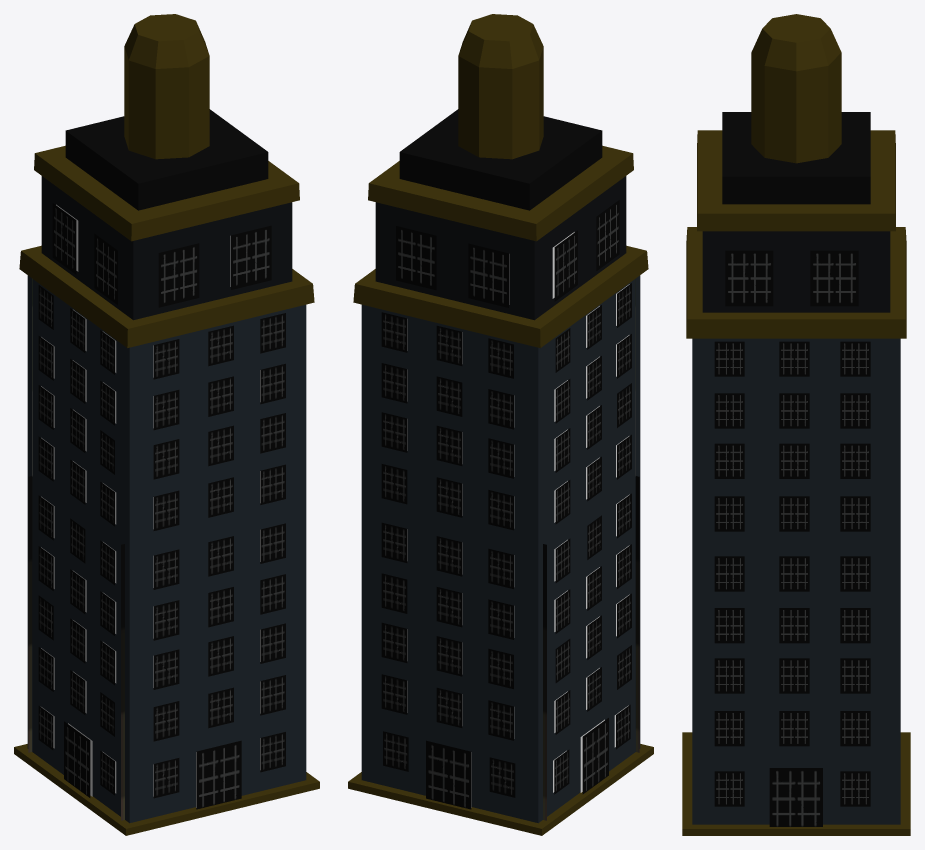
The model's file is Building(3).fbx.
The picture shows the model from 3 angles, left to right: view 1: azimuth 30°, elevation 25°; view 2: azimuth 150°, elevation 25°; view 3: azimuth 270°, elevation 25°; orthographic projection. The views are drawn at different scales.
Visible parts, largest first — view 1: Building(3); view 2: Building(3); view 3: Building(3).
Part boxes in pixels (x1,y1,x2,y2): Building(3): (14, 14, 319, 835); Building(3): (348, 14, 653, 835); Building(3): (682, 14, 910, 835).
Size of the model in its own units: 6.5 by 23.83 by 6.5.
